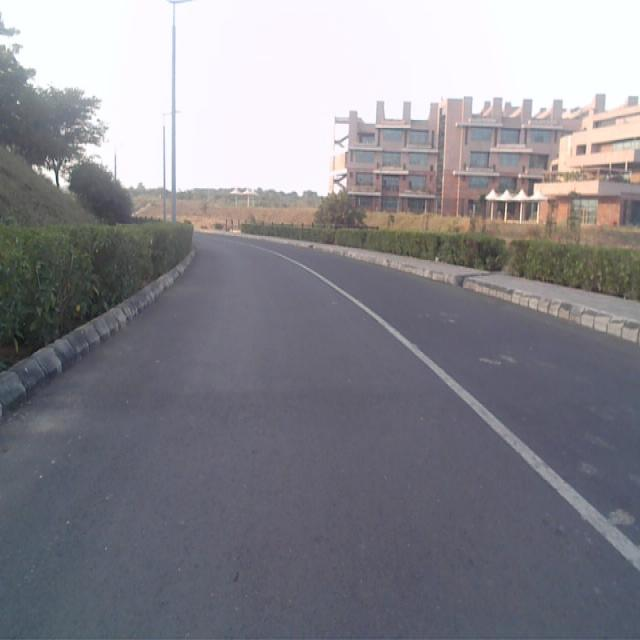lane: (0, 240, 640, 640)
